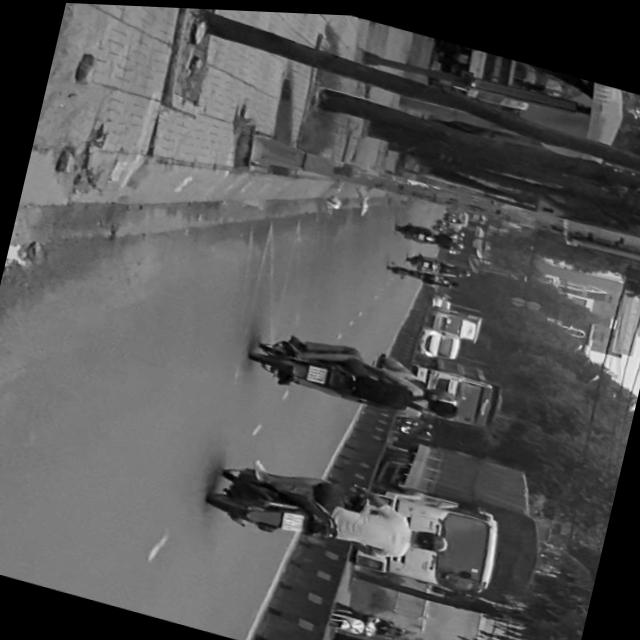helmet: (409, 522, 452, 554), (424, 379, 461, 403)
licenseplate: (204, 447, 457, 576), (245, 318, 470, 433)
motorcyclist: (424, 392, 462, 419)
nohelmet: (282, 508, 306, 531), (306, 361, 327, 380)
